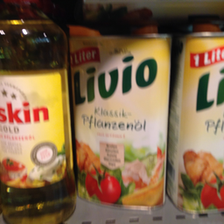oil: (70, 28, 174, 206), (1, 1, 72, 224), (168, 25, 223, 211)
